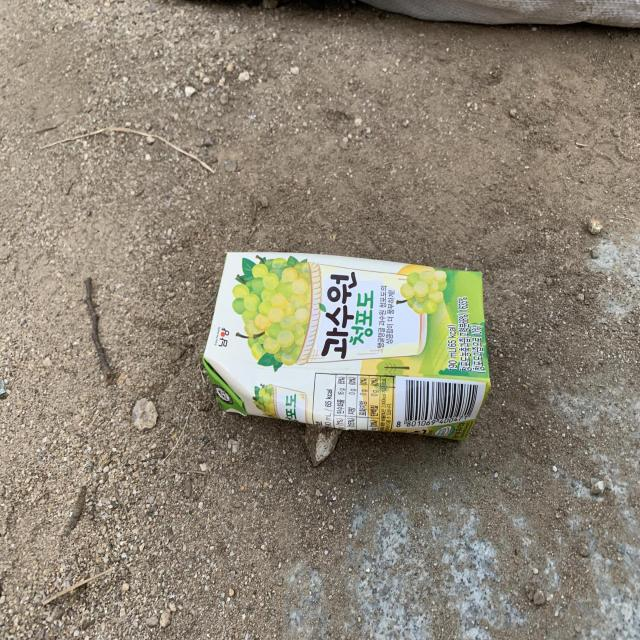paperpack: (203, 252, 491, 440)
